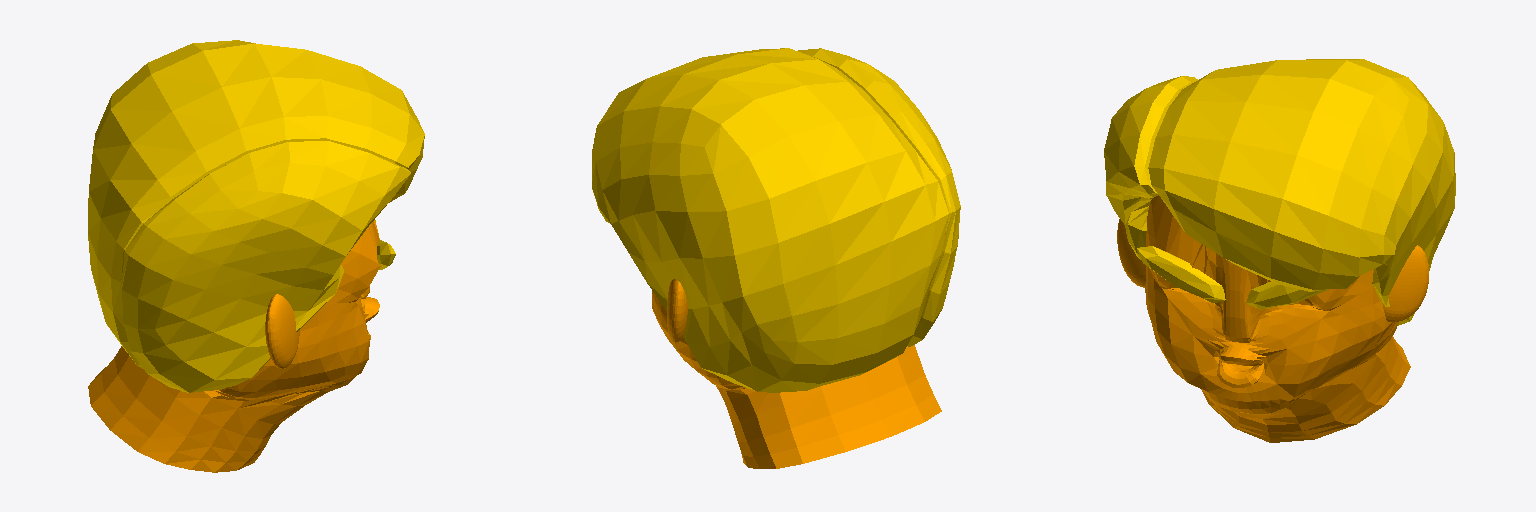
The model's file is trump_head_09.obj.
3 views of the same model, side by side, from view 1: azimuth 30°, elevation 25°; view 2: azimuth 150°, elevation 25°; view 3: azimuth 270°, elevation 25° (orthographic).
Visible parts, largest first — view 1: eyebrow_1.1; view 2: eyebrow_1.1; view 3: eyebrow_1.1.
Boxes of the visible parts, <box> form: eyebrow_1.1: <box>88,40,424,472</box>; eyebrow_1.1: <box>592,48,960,468</box>; eyebrow_1.1: <box>1104,59,1455,442</box>.
Size of the model in its own units: 30.34 by 34.49 by 29.21.